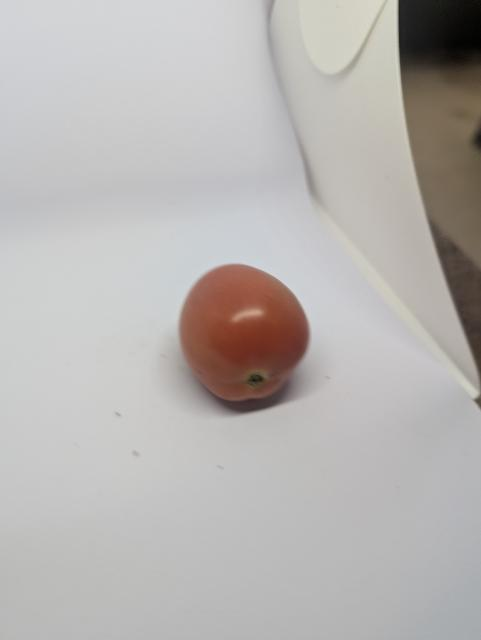red: (177, 261, 317, 405)
